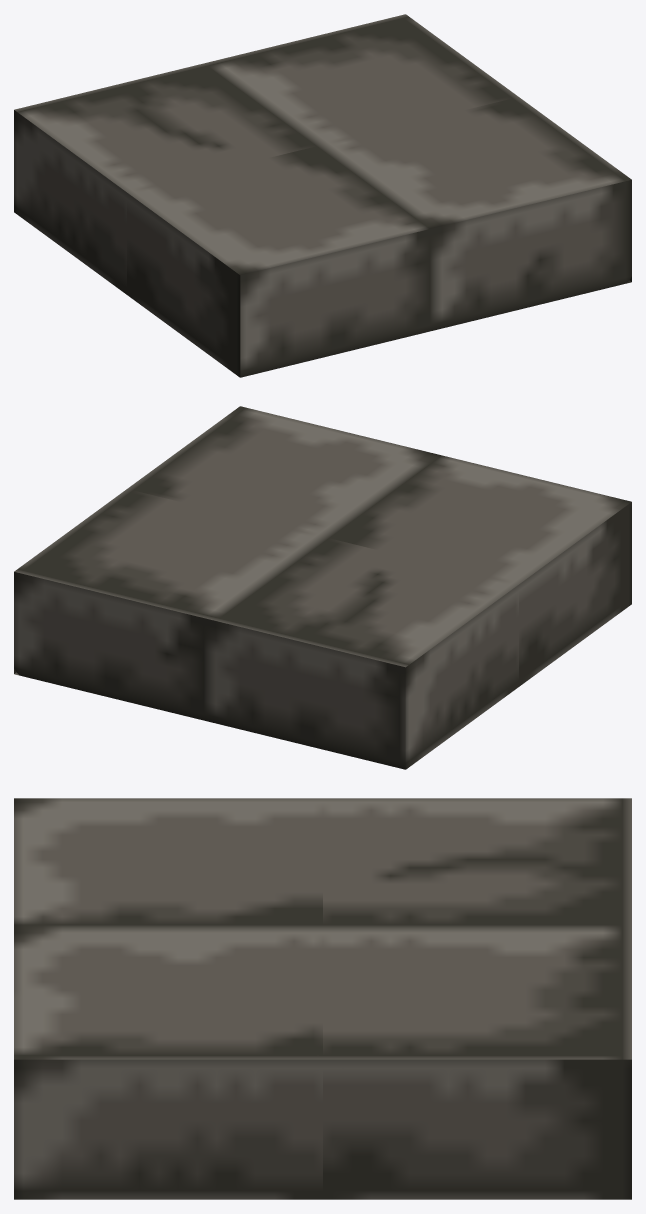
The model's file is Ceiling_1x1.fbx.
3 views of the same model, one above another, from view 1: azimuth 30°, elevation 25°; view 2: azimuth 150°, elevation 25°; view 3: azimuth 270°, elevation 25° (orthographic). The views are drawn at different scales.
Parts seen in each view (by area): view 1: Ceiling_1x1; view 2: Ceiling_1x1; view 3: Ceiling_1x1.
Boxes of the visible parts, x1,y1,x2,y2 form: Ceiling_1x1: [14, 14, 631, 377]; Ceiling_1x1: [14, 406, 631, 769]; Ceiling_1x1: [14, 798, 631, 1199].
Size of the model in its own units: 200 by 50 by 200.
Materials: 1 (1 with a texture image).
